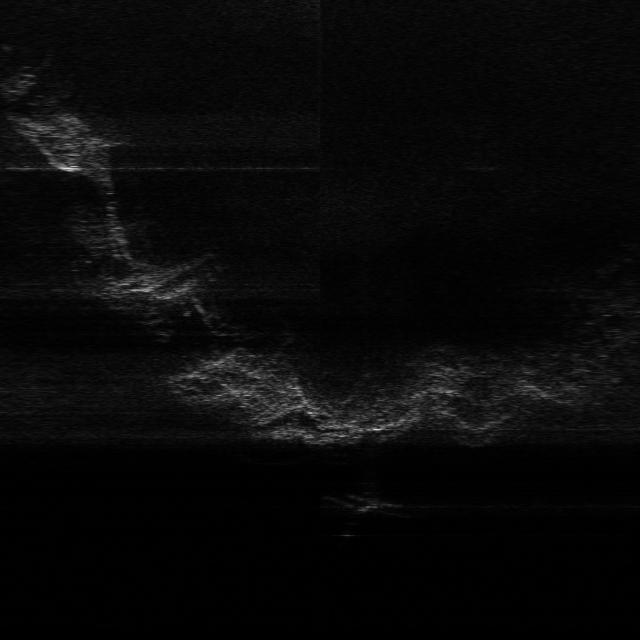plane: (321, 486, 408, 519)
